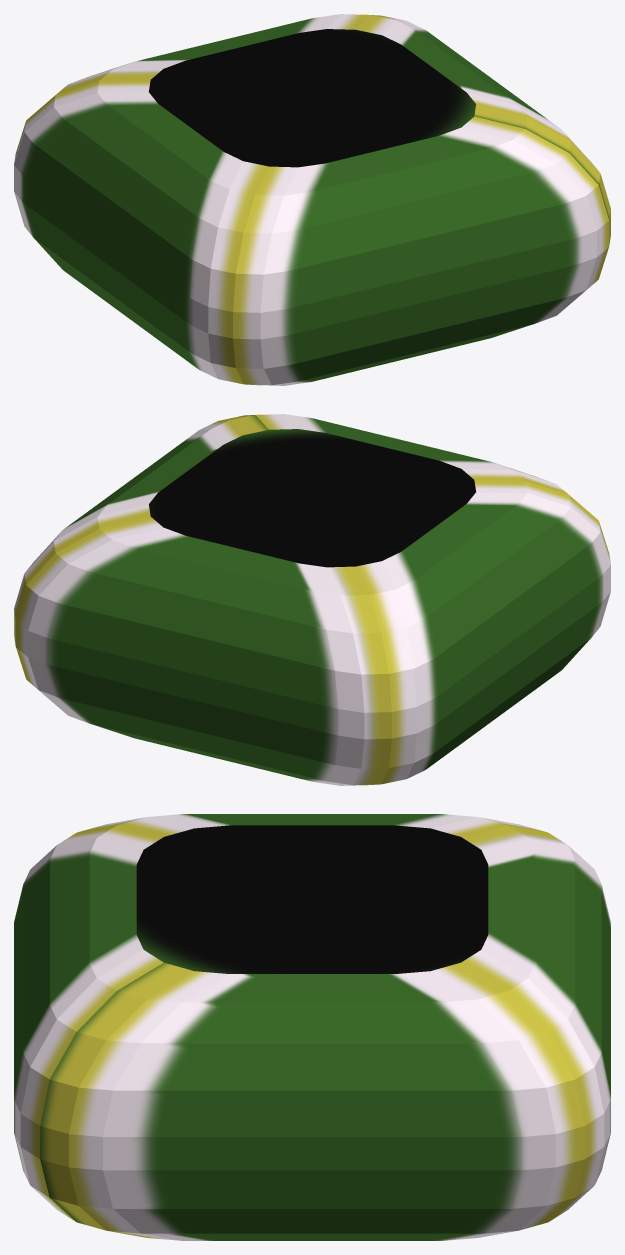
File: BeamObj(Lower).obj
The picture shows the model from 3 angles, top to bottom: view 1: azimuth 30°, elevation 25°; view 2: azimuth 150°, elevation 25°; view 3: azimuth 270°, elevation 25°; orthographic projection. The views are drawn at different scales.
Parts seen in each view (by area): view 1: 立方体; view 2: 立方体; view 3: 立方体.
Part boxes in pixels (box(x1,y1,x2,y2)): 立方体: box(14, 14, 610, 385); 立方体: box(14, 414, 610, 785); 立方体: box(14, 814, 610, 1240).
Bounding box in the file's own units: 2 × 0.9441 × 2.
